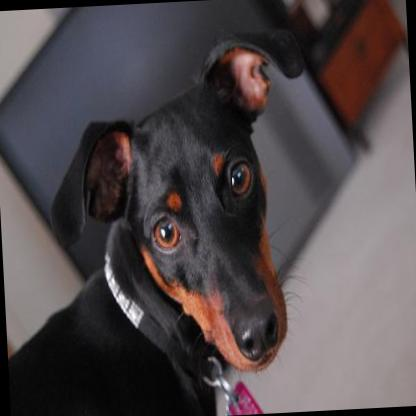miniature_pinscher: (0, 12, 328, 416)
